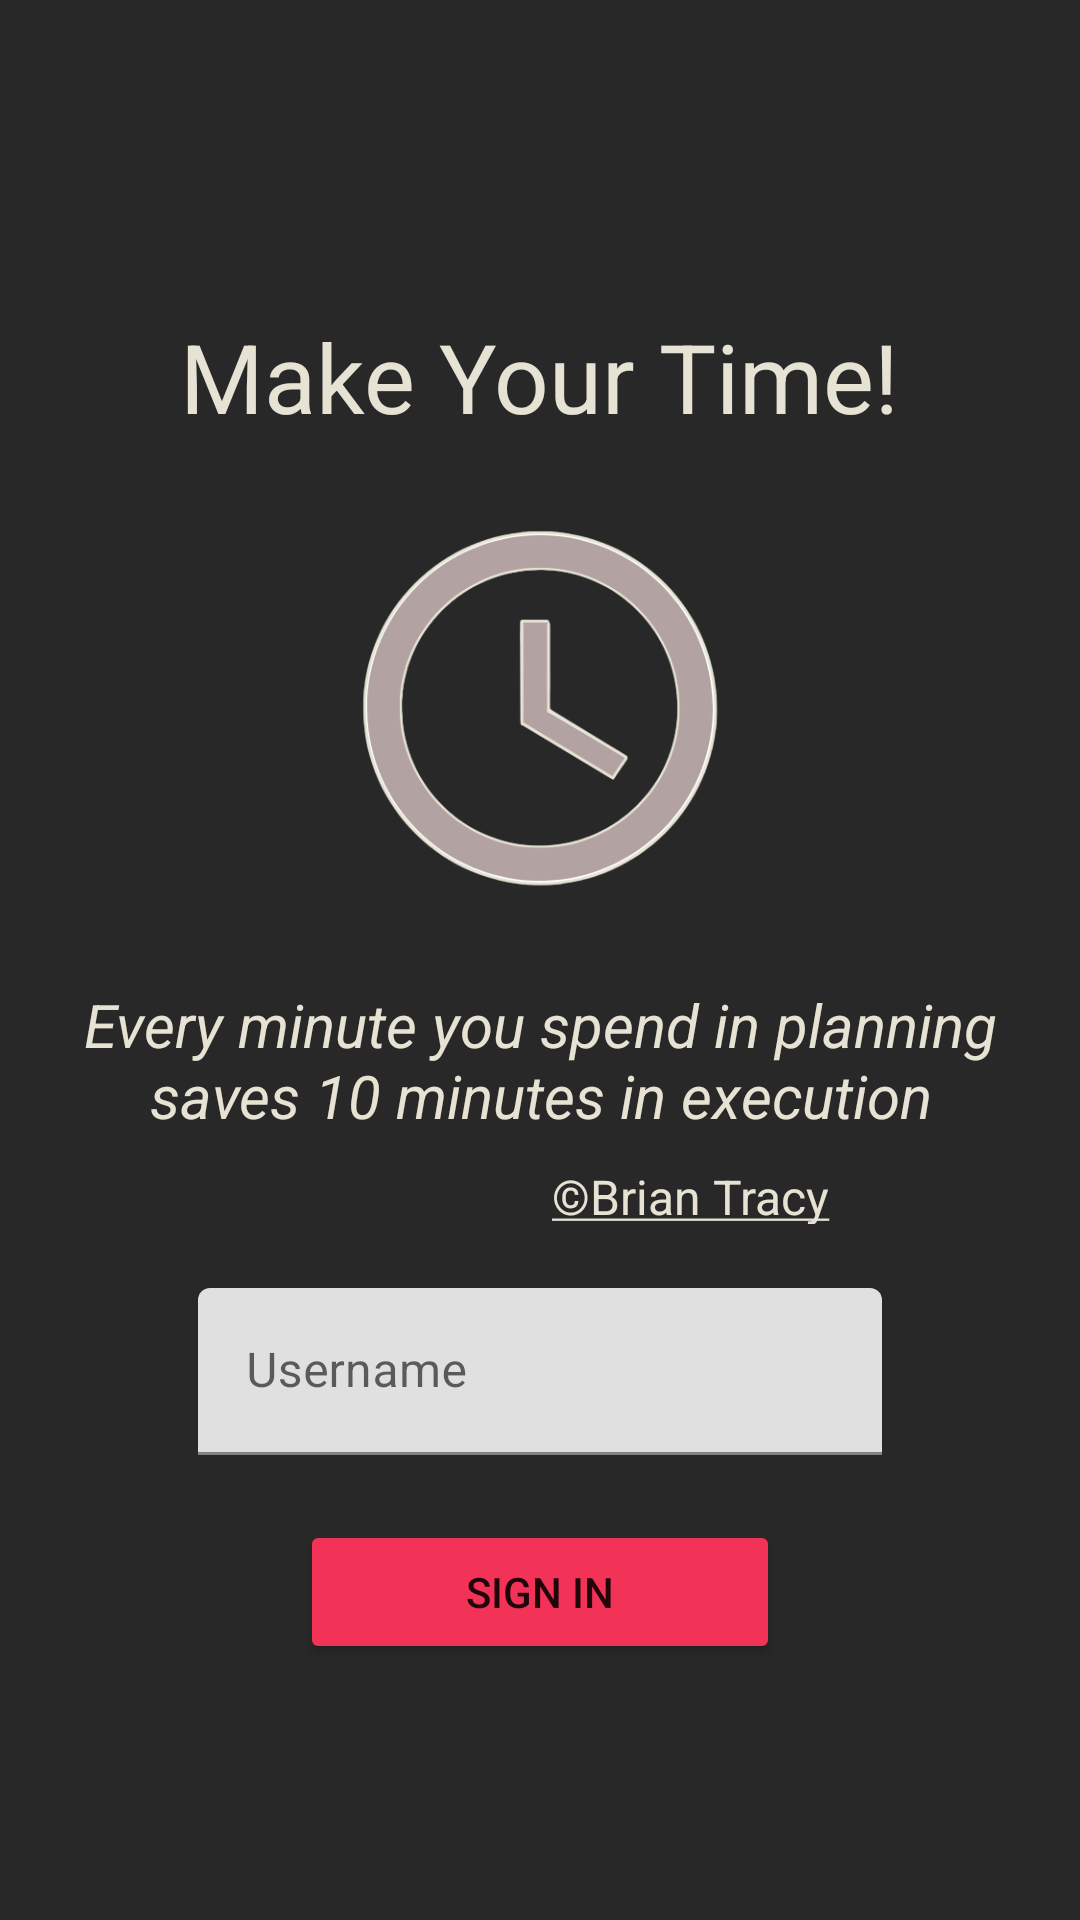

Named icons in this screenshot (1080x1920) and their bounding boxes, (x1, y1, x2, y2):
clock dt: (363, 531, 718, 886)
